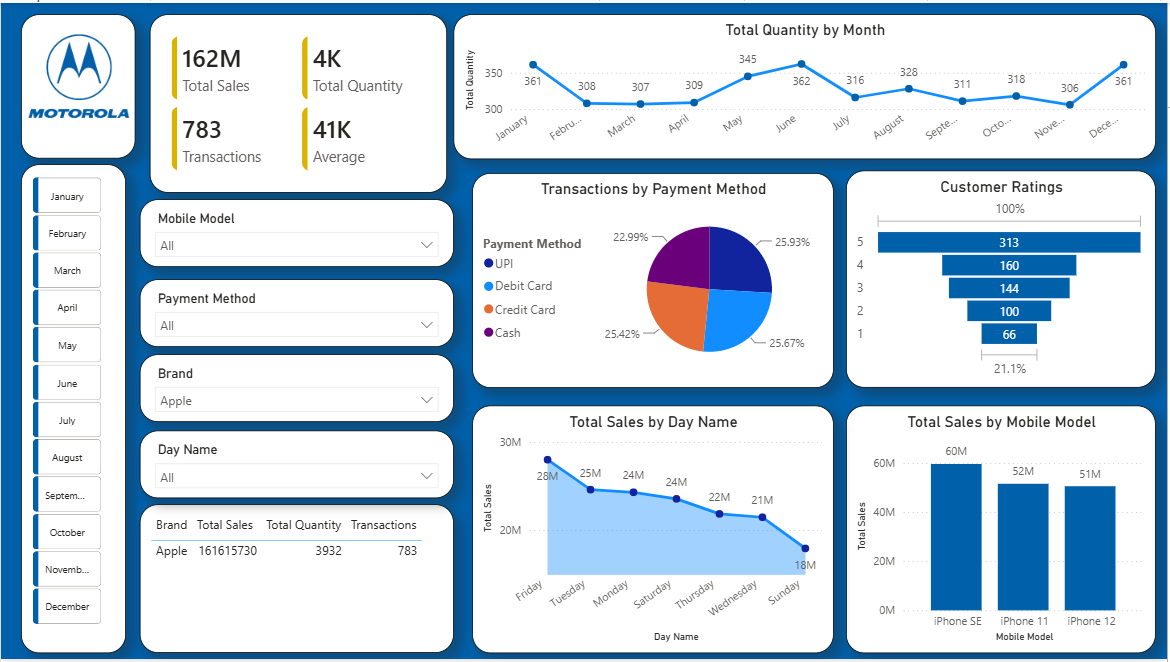

The page's visual inventory and layout, read from the dashboard file:
{"tool":"powerbi","page":{"name":"Page 1","canvas":[1280,720],"ordinal":0},"visuals":[{"type":"shape","box":[22.4,11.7,125.5,158.5],"z":0},{"type":"image","box":[24.3,24.3,121.6,110.9],"z":1000},{"type":"shape","box":[22,177,115.3,536.5],"z":2000},{"type":"advancedSlicerVisual","fields":{"Values":["Sales_Data.Date.Variation.Date Hierarchy.Month"]},"box":[30.2,186.6,98.8,511.8],"z":3000},{"type":"cardVisual","fields":{"Data":["Sales_Data.Total Sales","Sales_Data.Total Quantity","Sales_Data.Transactions","Sales_Data.Average"]},"box":[163.3,12.3,326.6,196.2],"z":4000},{"type":"lineChart","title":"Total Quantity by Month","fields":{"Y":["Sales_Data.Total Quantity"],"Category":["Sales_Data.Date.Variation.Date Hierarchy.Month","Sales_Data.Date.Variation.Date Hierarchy.Day"]},"box":[496.7,12.3,771.2,159.2],"z":5000},{"type":"clusteredColumnChart","title":"Total Sales by Mobile Model","fields":{"Category":["Sales_Data.Mobile Model"],"Y":["Sales_Data.Total Sales"]},"box":[927.6,441.9,340.3,271.7],"z":6000},{"type":"pieChart","title":"Transactions by Payment Method","fields":{"Category":["Sales_Data.Payment Method"],"Y":["Sales_Data.Transactions"]},"box":[517.3,186.6,396.6,236],"z":7000},{"type":"funnel","title":"Customer Ratings","fields":{"Category":["Sales_Data.Customer Ratings"],"Y":["CountNonNull(Sales_Data.Customer Ratings)"]},"box":[927.6,183.9,340.3,238.8],"z":8000},{"type":"areaChart","fields":{"Category":["Sales_Data.Day Name"],"Y":["Sales_Data.Total Sales"]},"box":[517.3,441.9,396.6,271.7],"z":9000},{"type":"tableEx","fields":{"Values":["Sales_Data.Brand","Sales_Data.Total Sales","Sales_Data.Total Quantity","Sales_Data.Transactions"]},"box":[152.3,550.3,344.4,163.3],"z":10000},{"type":"slicer","title":"Mobile Model","fields":{"Values":["Sales_Data.Mobile Model"]},"box":[152.3,215.4,344.4,74.1],"z":11000},{"type":"slicer","fields":{"Values":["Sales_Data.Payment Method"]},"box":[152.3,303.3,344.4,74.1],"z":11002},{"type":"slicer","fields":{"Values":["Sales_Data.Brand"]},"box":[152.3,385.6,344.4,74.1],"z":11003},{"type":"slicer","fields":{"Values":["Sales_Data.Day Name"]},"box":[152.3,469.3,344.4,74.1],"z":11004}]}

Visuals, with their boxes in screenshot pixels (x1, y1, x2, y2), scaled from the page's 1280x720 canvas onto the 1170x662 screenshot:
shape: [left=20, top=11, right=135, bottom=156]
image: [left=22, top=22, right=133, bottom=124]
shape: [left=20, top=163, right=126, bottom=656]
advancedSlicerVisual - Sales_Data.Date.Variation.Date Hierarchy.Month: [left=28, top=172, right=118, bottom=642]
cardVisual - Sales_Data.Total Sales x Sales_Data.Total Quantity: [left=149, top=11, right=448, bottom=192]
"Total Quantity by Month" lineChart: [left=454, top=11, right=1159, bottom=158]
"Total Sales by Mobile Model" clusteredColumnChart: [left=848, top=406, right=1159, bottom=656]
"Transactions by Payment Method" pieChart: [left=473, top=172, right=835, bottom=389]
"Customer Ratings" funnel: [left=848, top=169, right=1159, bottom=389]
areaChart - Sales_Data.Day Name x Sales_Data.Total Sales: [left=473, top=406, right=835, bottom=656]
tableEx - Sales_Data.Brand x Sales_Data.Total Sales: [left=139, top=506, right=454, bottom=656]
"Mobile Model" slicer: [left=139, top=198, right=454, bottom=266]
slicer - Sales_Data.Payment Method: [left=139, top=279, right=454, bottom=347]
slicer - Sales_Data.Brand: [left=139, top=355, right=454, bottom=423]
slicer - Sales_Data.Day Name: [left=139, top=431, right=454, bottom=500]
